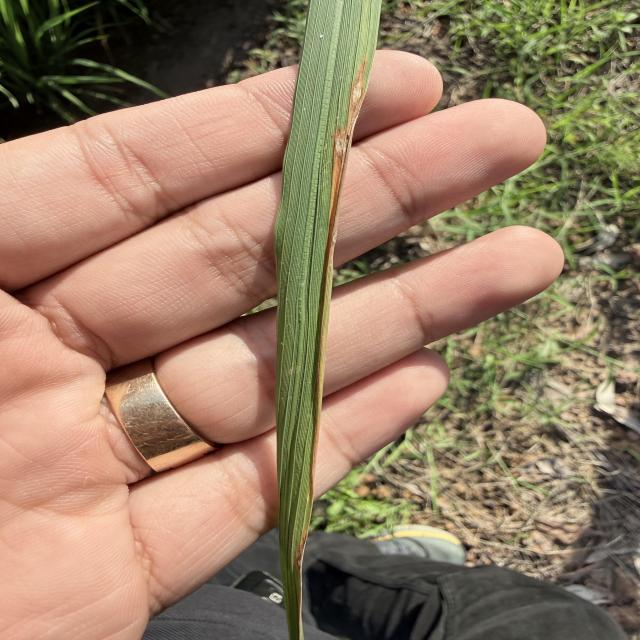Chay bia la: (293, 66, 368, 640)
